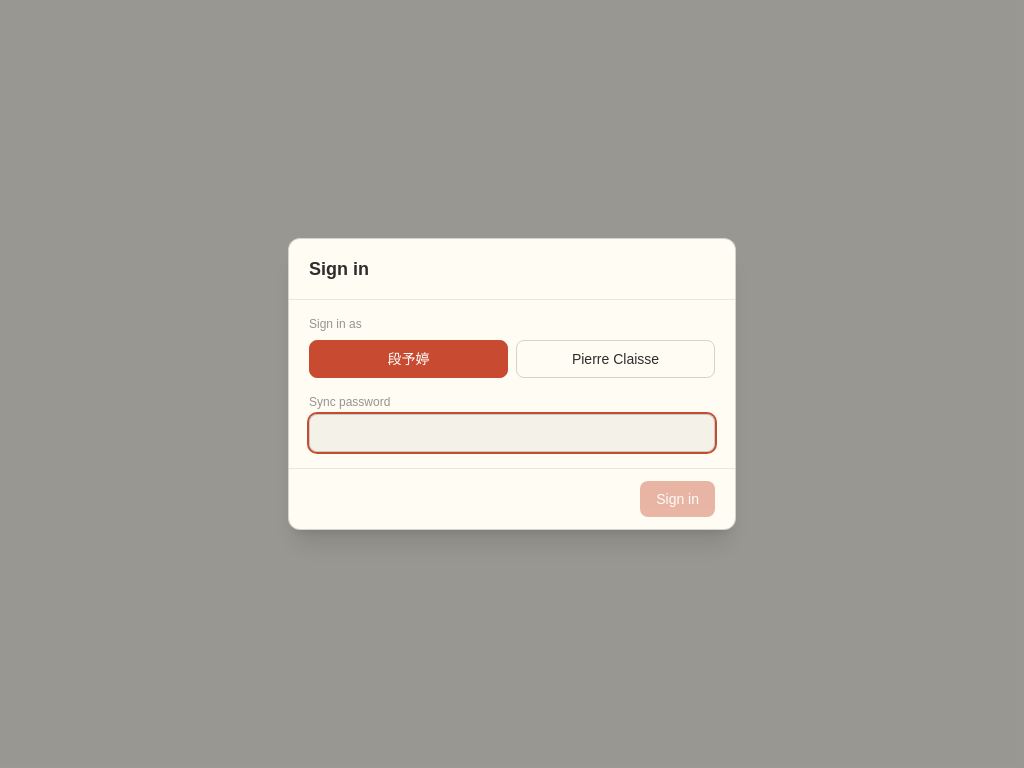
Test: LoginScreen › disables the submit button when required fields are empty
Expected: the button "Sign in" is disabled, [640,481,715,517]
Type "x" into the password field labelled "Sync password". click: (512, 433)
box: [309,414,715,452]
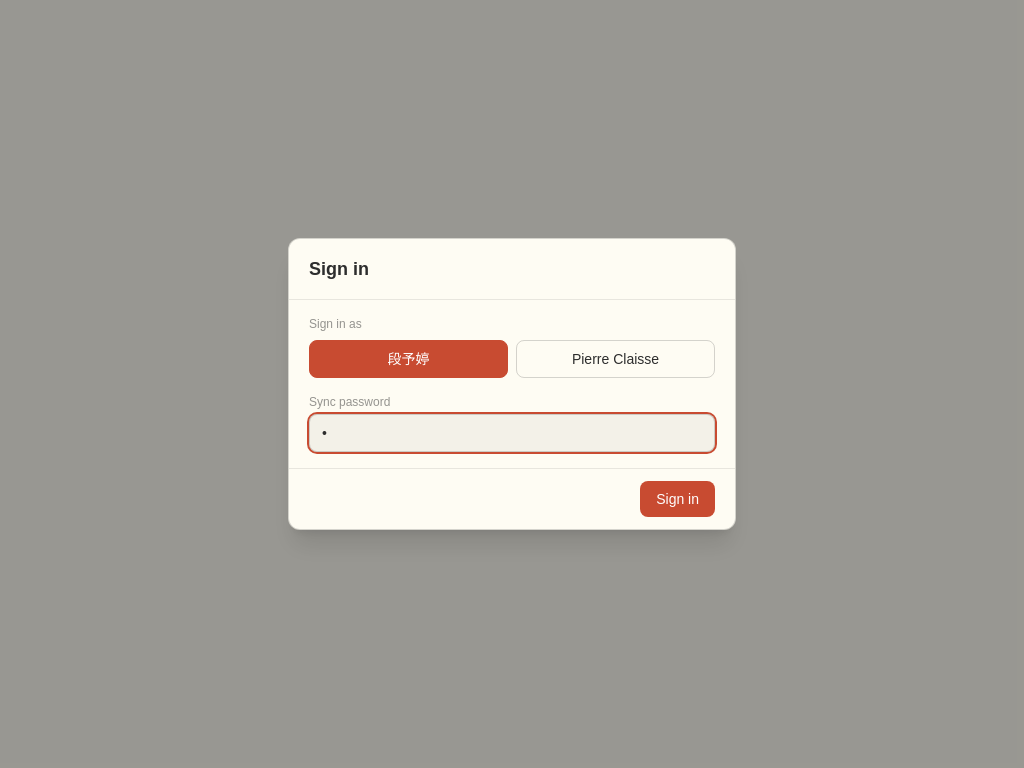
Now the button "Sign in" is enabled, box [640,481,715,517]
Click the button "Pierre Claisse". click: (616, 359)
box: [516,340,715,378]
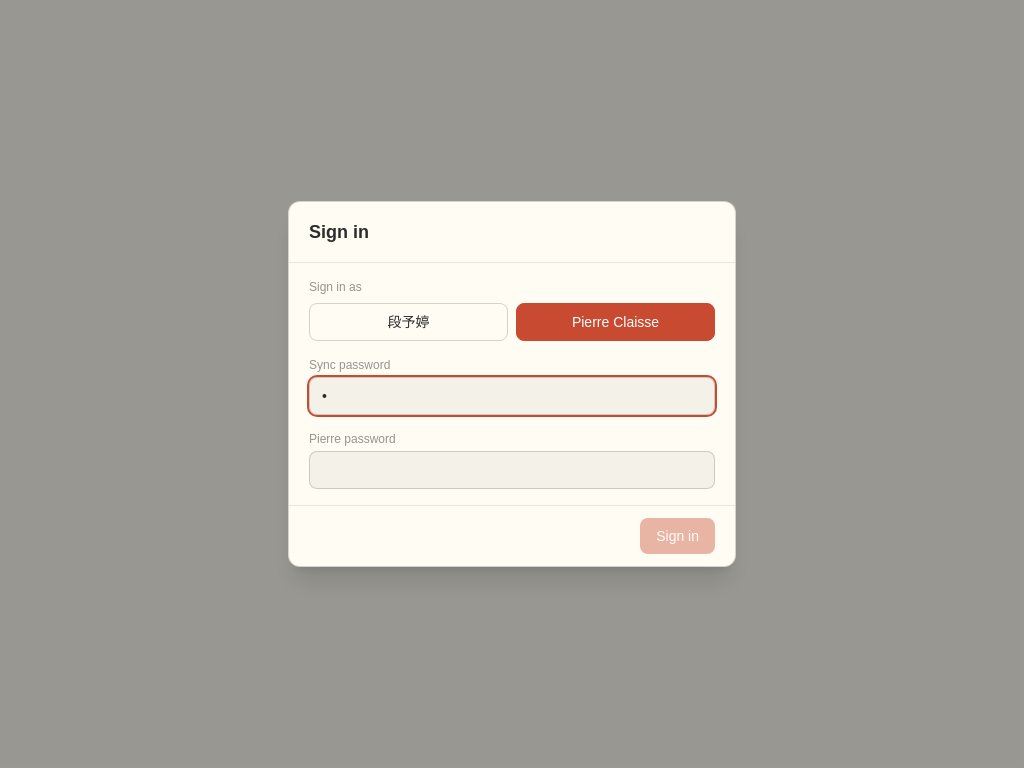
Now the button "Sign in" is disabled, box [640,518,715,554]
Type "y" into the password field labelled "Pierre password". click: (512, 470)
box: [309,451,715,489]
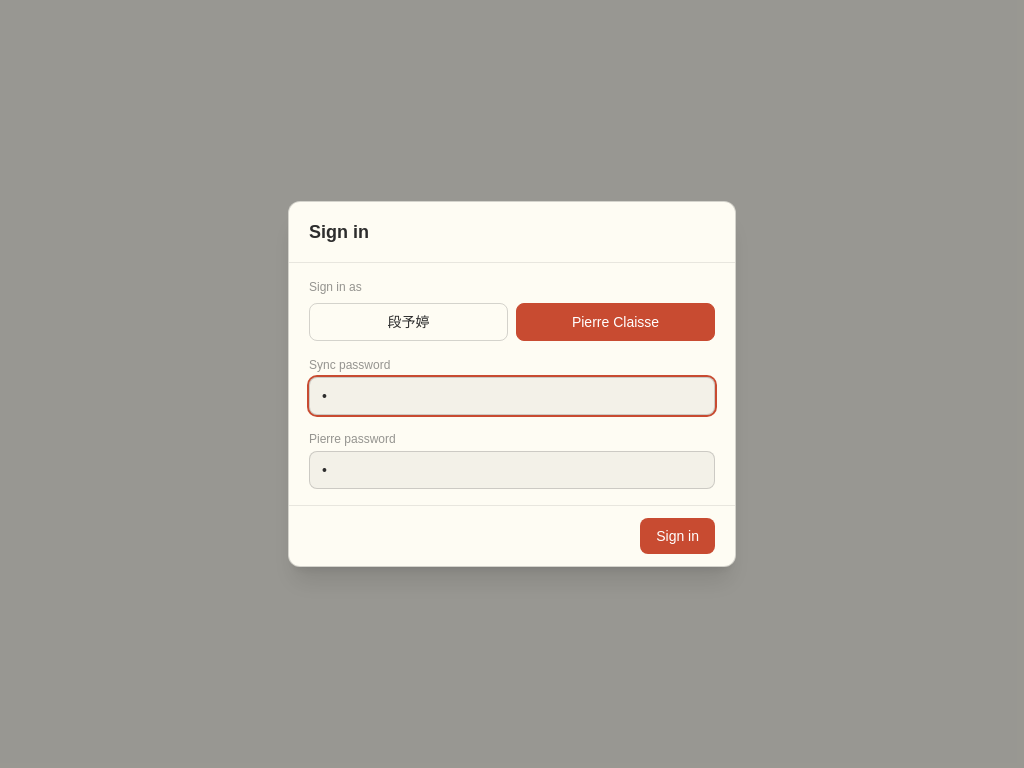
Now the button "Sign in" is enabled, box [640,518,715,554]
